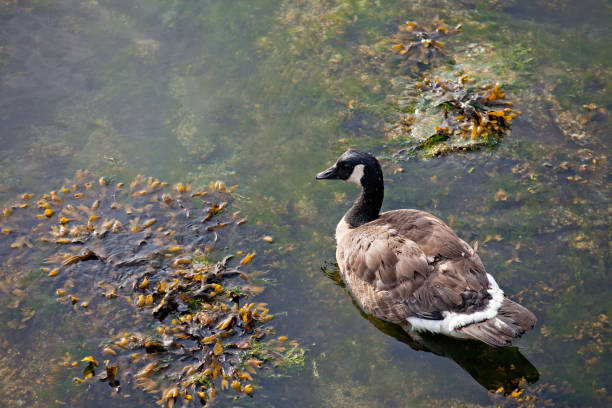goose: (312, 146, 540, 356)
